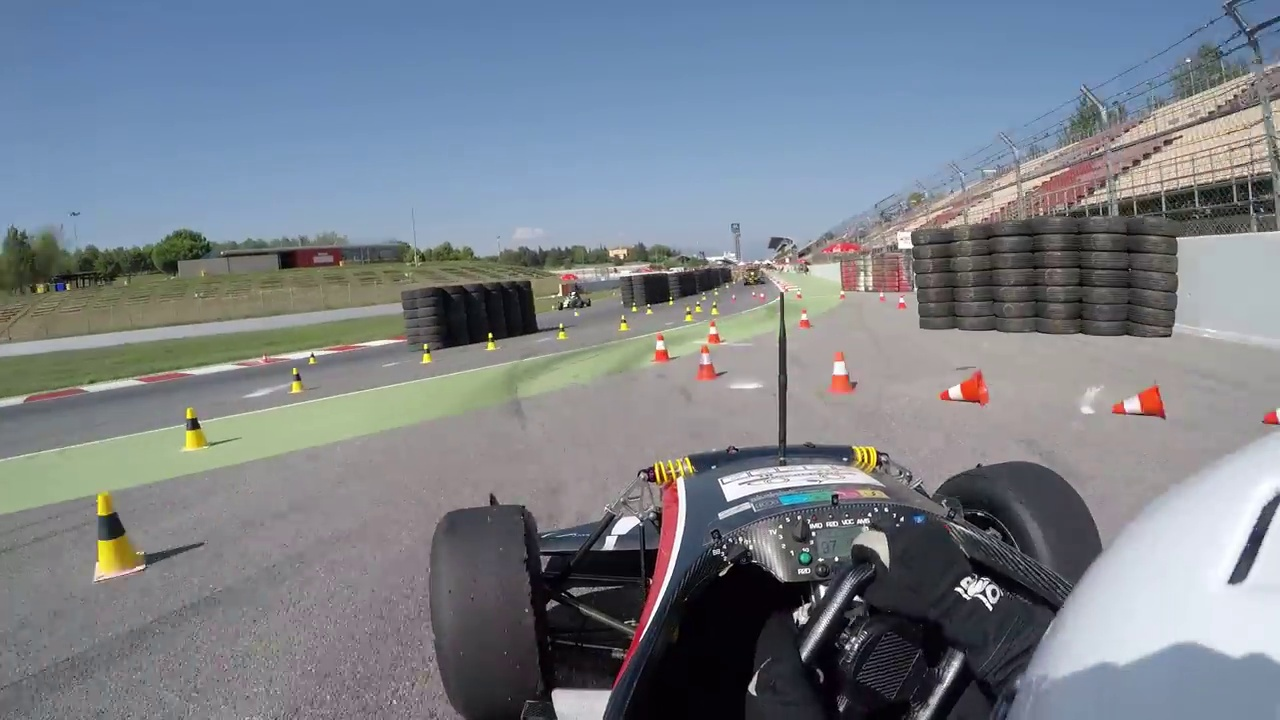Cone: (90, 490, 148, 584), (821, 350, 859, 395), (179, 406, 211, 450), (694, 343, 716, 382), (652, 332, 673, 363), (288, 364, 304, 394)
